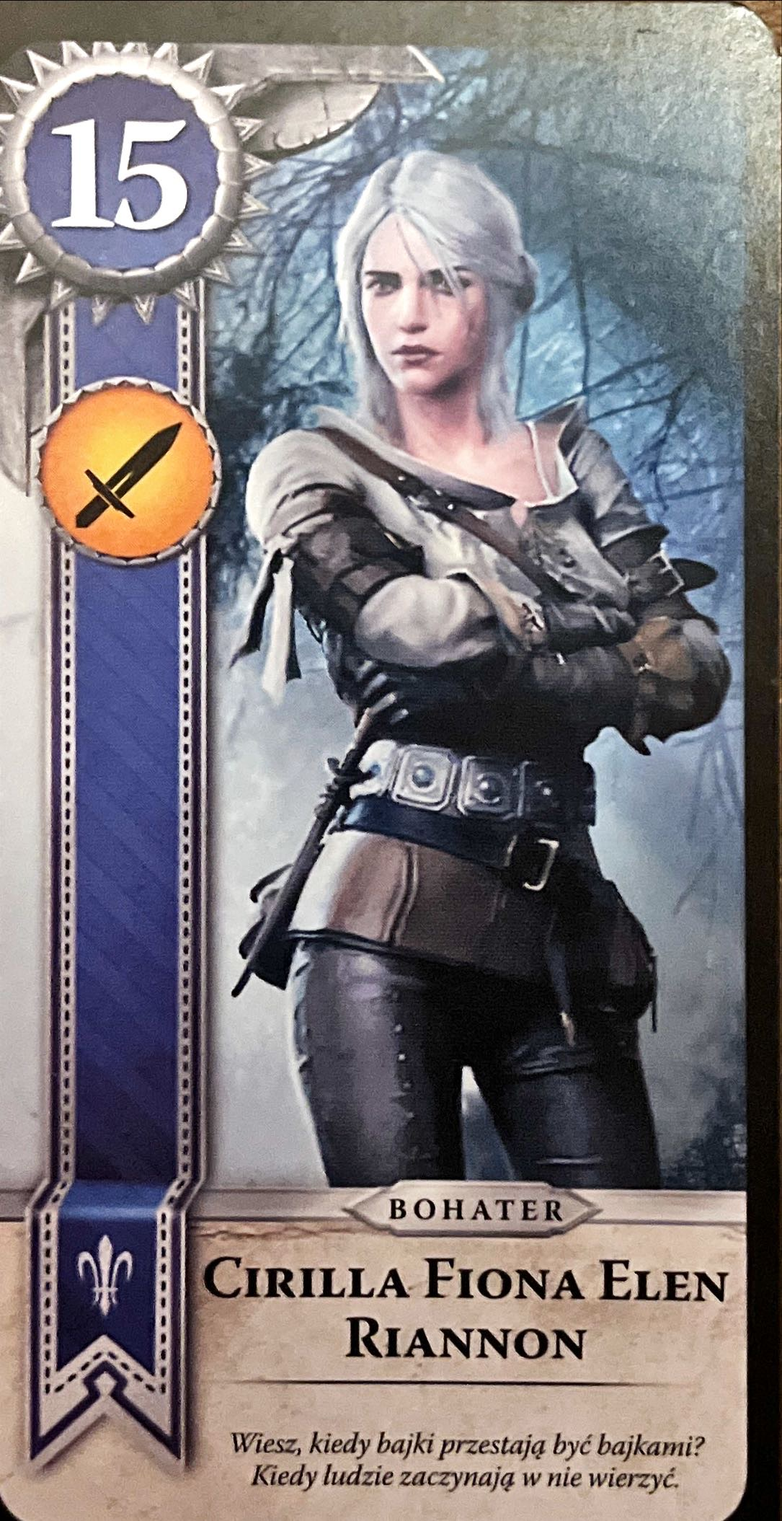15: (1, 39, 270, 325)
bohater: (348, 1178, 601, 1239)
miecz: (42, 377, 220, 565)
